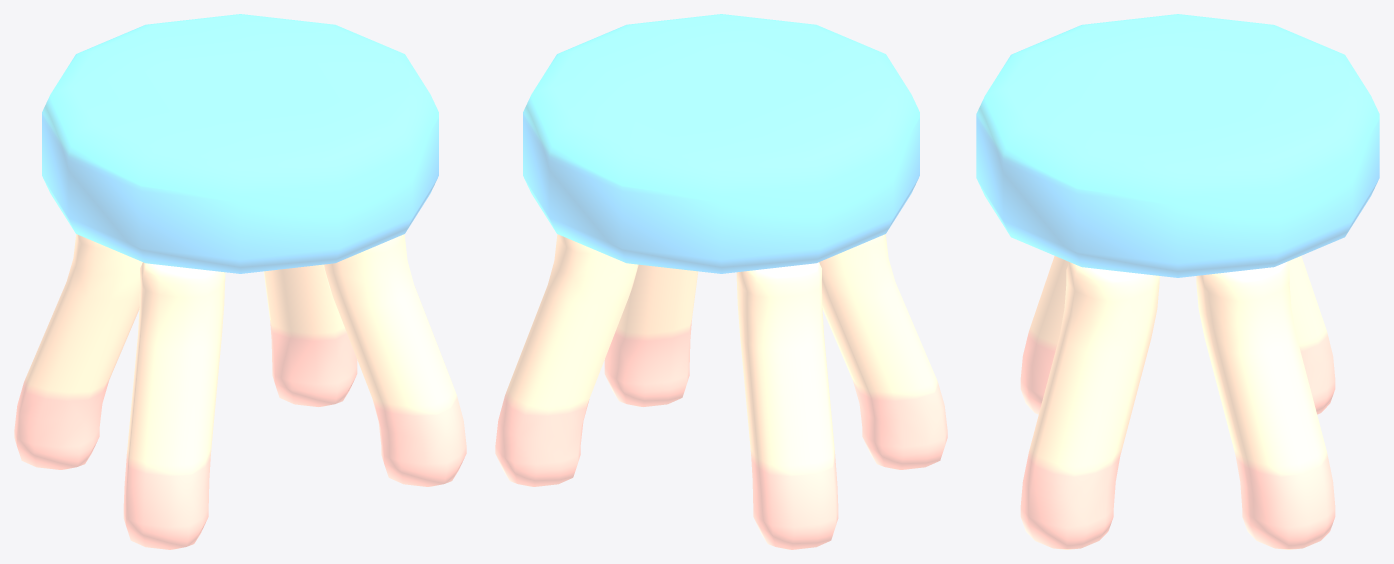
The model's file is chair.gltf.
The picture shows the model from 3 angles, left to right: view 1: azimuth 30°, elevation 25°; view 2: azimuth 150°, elevation 25°; view 3: azimuth 270°, elevation 25°; orthographic projection.
Parts seen in each view (by area): view 1: desk_chair.001_45; view 2: desk_chair.001_45; view 3: desk_chair.001_45.
Part boxes in pixels (x1,y1,x2,y2): desk_chair.001_45: (14,14,466,549); desk_chair.001_45: (495,14,947,549); desk_chair.001_45: (976,14,1379,549).
Size of the model in its own units: 0.4239 by 0.4531 by 0.4239.
Materials: 1 (1 with a texture image).
